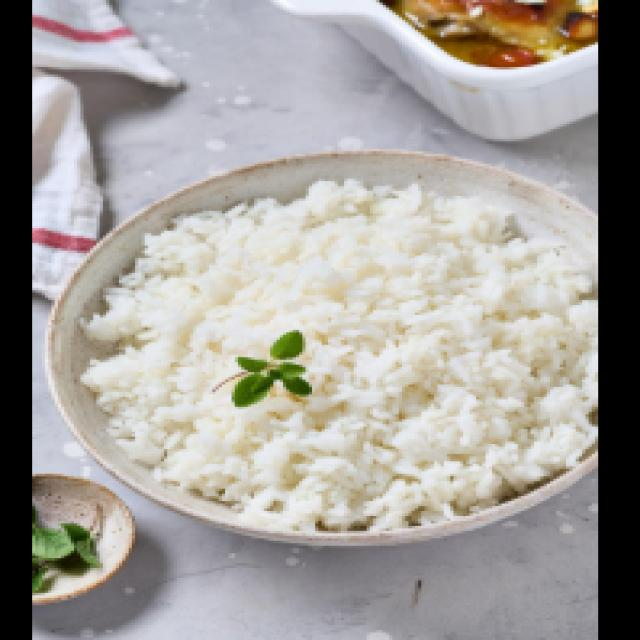rice: (110, 223, 577, 534)
